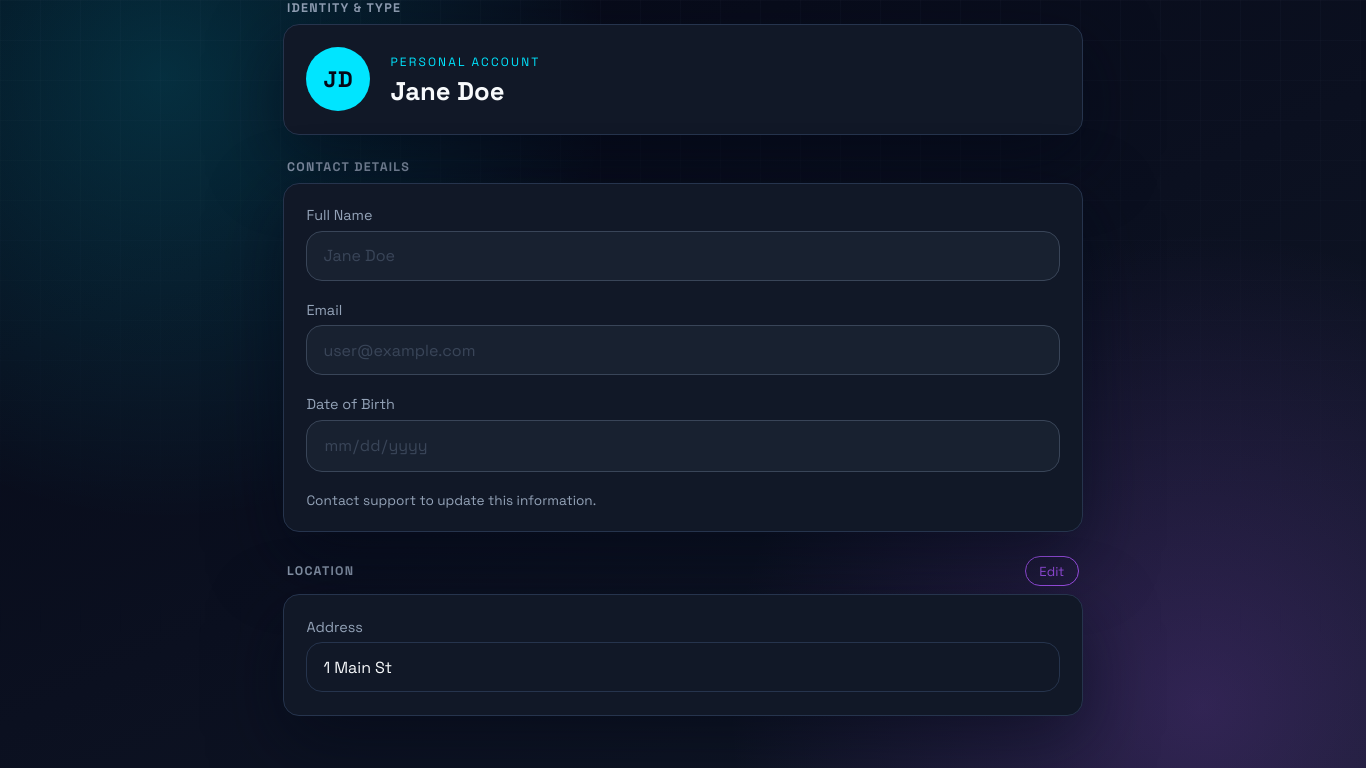
Test case: CustomerProfilePage › address editing › enables the address input and shows Update/Cancel after clicking the Location Edit button
Click the button "Edit" at [1052, 571], box [1025, 556, 1079, 586]
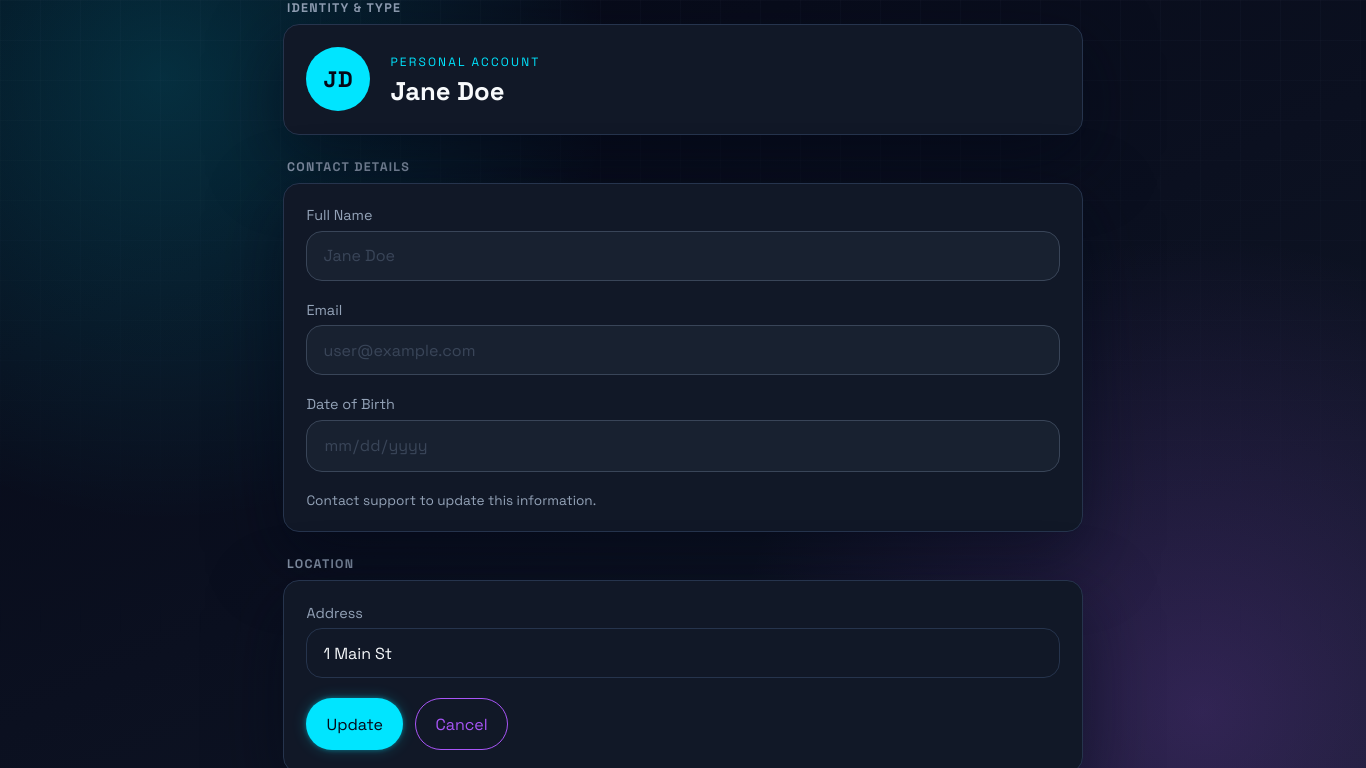
Check: the button "Update" is shown, box [306, 698, 403, 750]
Check: the button "Cancel" is shown, box [415, 698, 508, 750]
